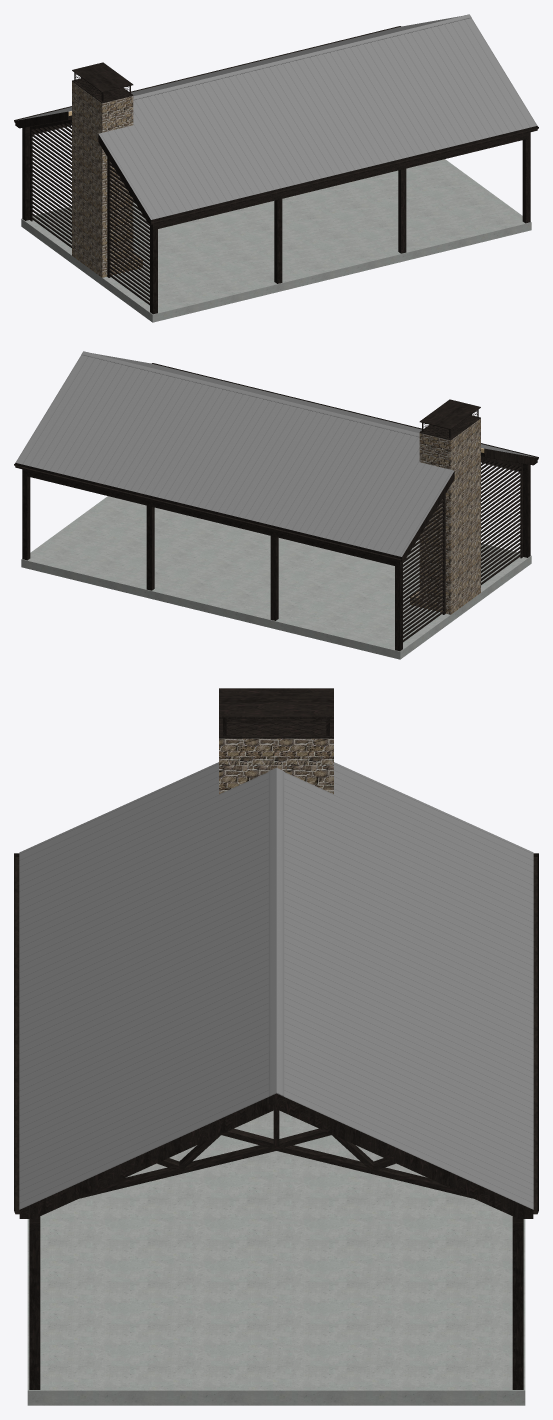
The model's file is farmhouse.glb.
3 renders of one model, top to bottom at view 1: azimuth 30°, elevation 25°; view 2: azimuth 150°, elevation 25°; view 3: azimuth 270°, elevation 25°, orthographic. The views are drawn at different scales.
Visible parts, largest first — view 1: Object_10, Object_4, Object_14, Object_12; view 2: Object_10, Object_4, Object_14, Object_12; view 3: Object_10, Object_4, Object_14, Object_12.
Part boxes in pixels (x1,y1,x2,y2): Object_10: (18, 14, 537, 219); Object_4: (21, 159, 531, 322); Object_14: (14, 26, 538, 314); Object_12: (72, 81, 142, 277); Object_10: (15, 351, 534, 556); Object_4: (21, 496, 531, 659); Object_14: (14, 363, 538, 651); Object_12: (410, 418, 480, 614); Object_10: (19, 762, 533, 1209); Object_4: (27, 1110, 525, 1405); Object_14: (14, 688, 538, 1389); Object_12: (219, 738, 333, 794).
Size of the model in its own units: 612 by 294 by 380.
Materials: 13 (8 with a texture image).
